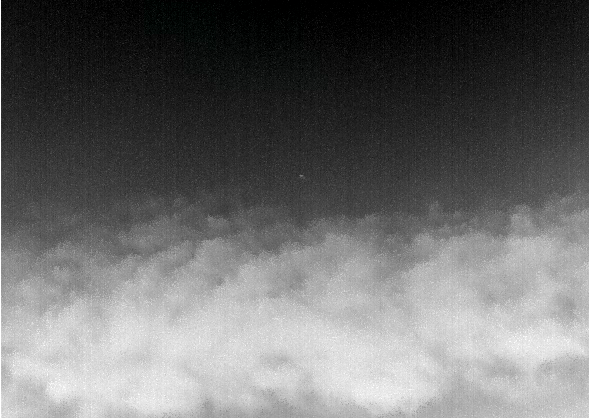dim target: (298, 174, 305, 178)
